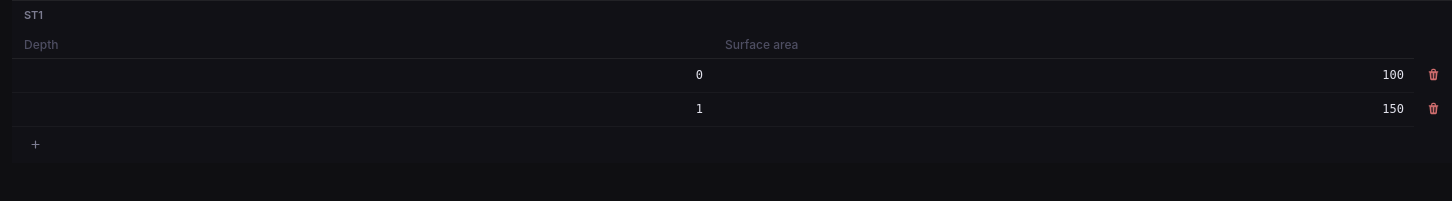
Test case: CollectionDetail › shows a refusal beside the table it is about
What coordinates should you click on to do the following:
click the button named "Add row"
I would click on:
 (35, 144)
Its box is left=24, top=133, right=46, bottom=155.
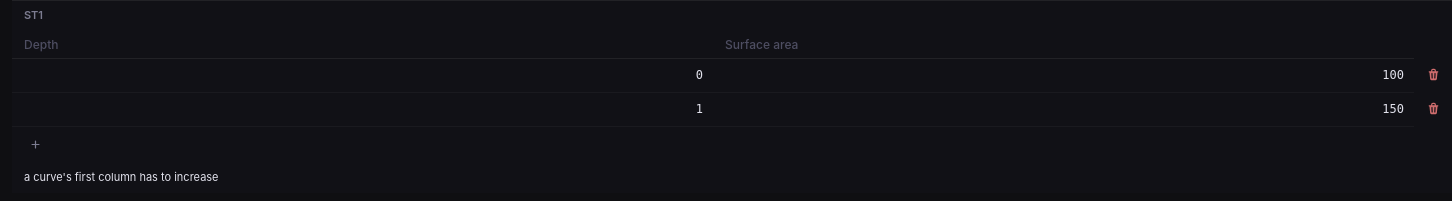
Now the text "a curve's first column has to increase" is shown, box left=24, top=170, right=218, bottom=184
